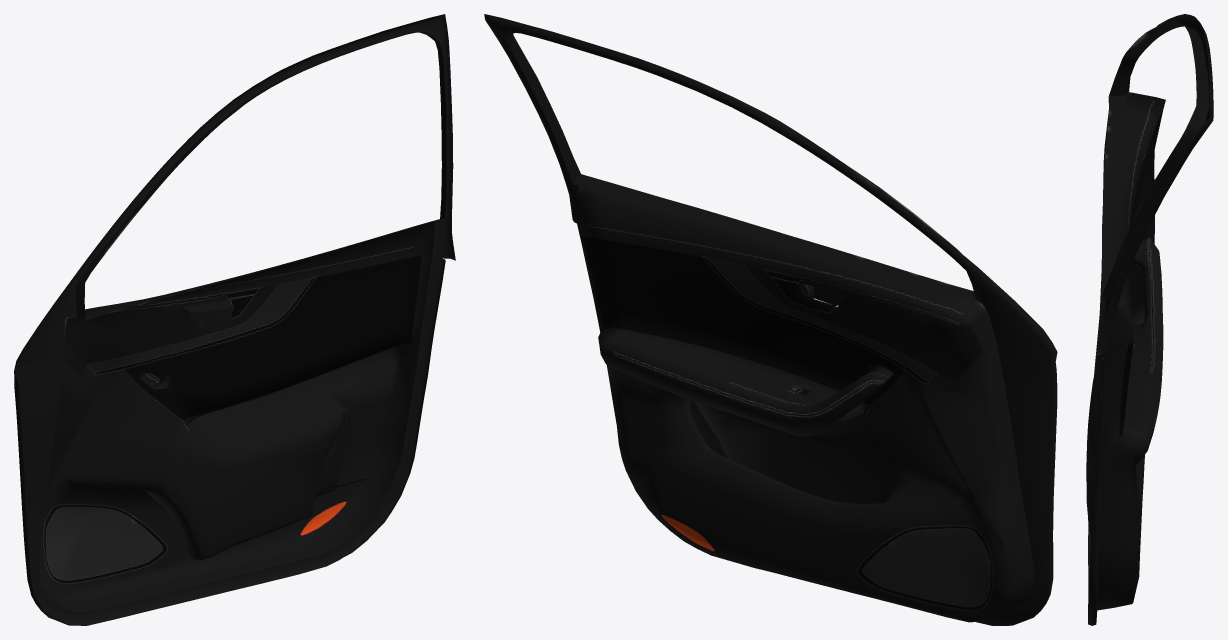
The model's file is SM_Car_MenLa.FBX.
3 views of the same model, side by side, from view 1: azimuth 30°, elevation 25°; view 2: azimuth 150°, elevation 25°; view 3: azimuth 270°, elevation 25° (orthographic). The views are drawn at different scales.
Parts seen in each view (by area): view 1: chemen_01; view 2: chemen_01; view 3: chemen_01.
Boxes of the visible parts, x1=… form: chemen_01: x1=14, y1=14, x2=455, y2=625; chemen_01: x1=484, y1=14, x2=1057, y2=625; chemen_01: x1=1086, y1=14, x2=1213, y2=625.
Size of the model in its own units: 117 by 114 by 21.55.
